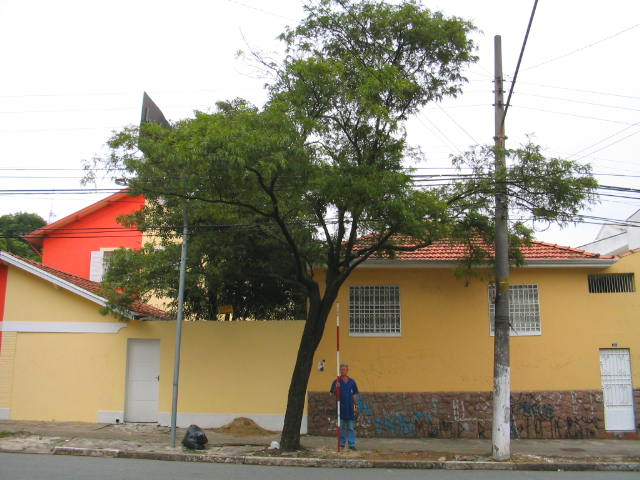crown: (84, 2, 602, 289)
stem: (274, 301, 330, 450)
stick: (331, 301, 343, 451)
tree: (80, 1, 604, 452)
